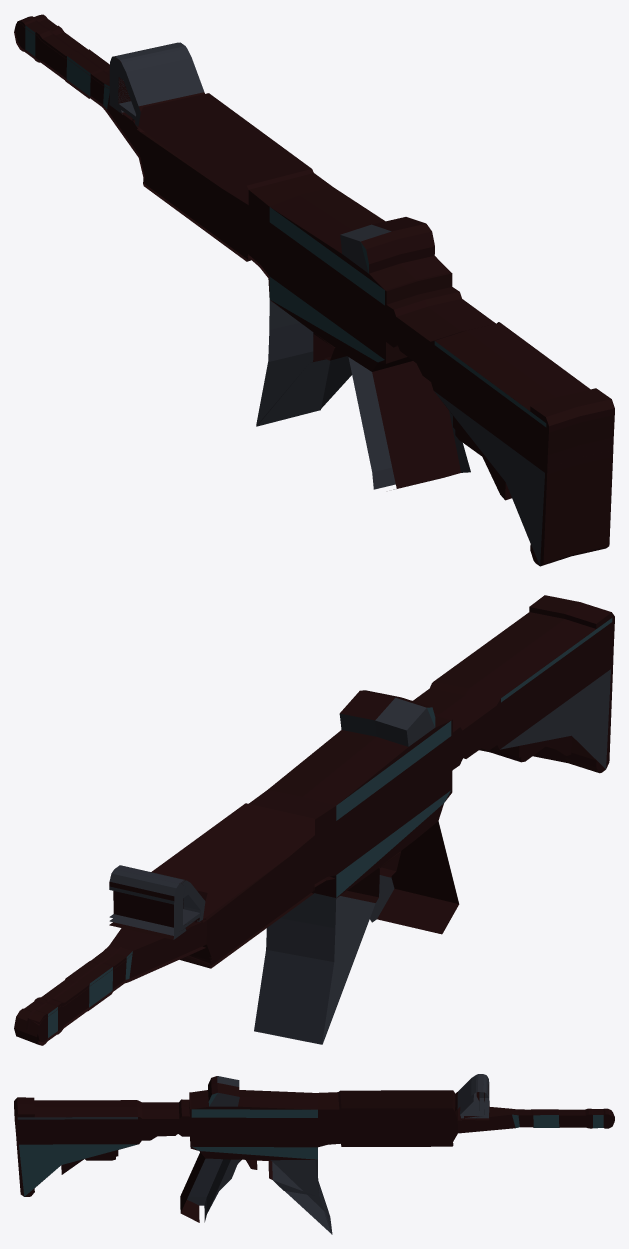
File: gun.glb
3 renders of one model, top to bottom at view 1: azimuth 30°, elevation 25°; view 2: azimuth 150°, elevation 25°; view 3: azimuth 270°, elevation 25°, orthographic. The views are drawn at different scales.
Visible parts, largest first — view 1: Plane.001; view 2: Plane.001; view 3: Plane.001.
Boxes of the visible parts, x1,y1,x2,y2 form: Plane.001: [14, 14, 614, 566]; Plane.001: [14, 595, 614, 1045]; Plane.001: [14, 1074, 614, 1234].
Size of the model in its own units: 0.3403 by 1.26 by 4.76.
